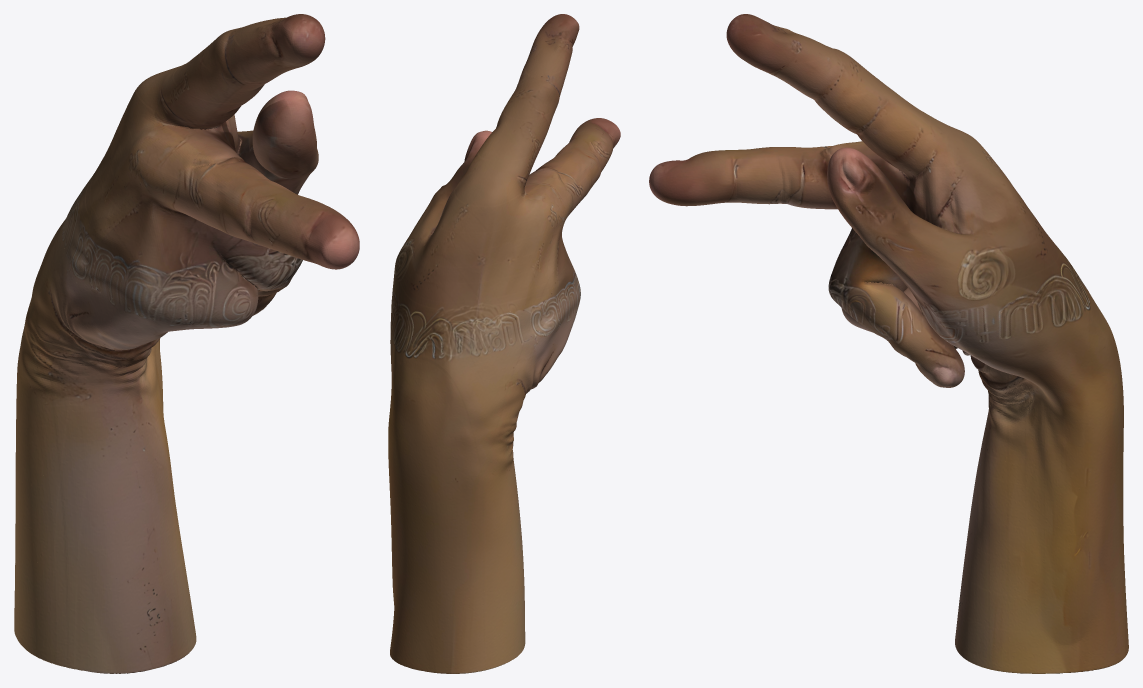
File: letter_P.glb
3 renders of one model, left to right at view 1: azimuth 30°, elevation 25°; view 2: azimuth 150°, elevation 25°; view 3: azimuth 270°, elevation 25°, orthographic. The views are drawn at different scales.
Visible parts, largest first — view 1: tripo_node_6753b5ae-9491-4797-a35a-7141b7f74052; view 2: tripo_node_6753b5ae-9491-4797-a35a-7141b7f74052; view 3: tripo_node_6753b5ae-9491-4797-a35a-7141b7f74052.
Part boxes in pixels (x1,y1,x2,y2): tripo_node_6753b5ae-9491-4797-a35a-7141b7f74052: [14, 14, 359, 673]; tripo_node_6753b5ae-9491-4797-a35a-7141b7f74052: [388, 14, 620, 673]; tripo_node_6753b5ae-9491-4797-a35a-7141b7f74052: [649, 14, 1128, 673].
Size of the model in its own units: 0.3029 by 1 by 0.6803.
Materials: 1 (1 with a texture image).
